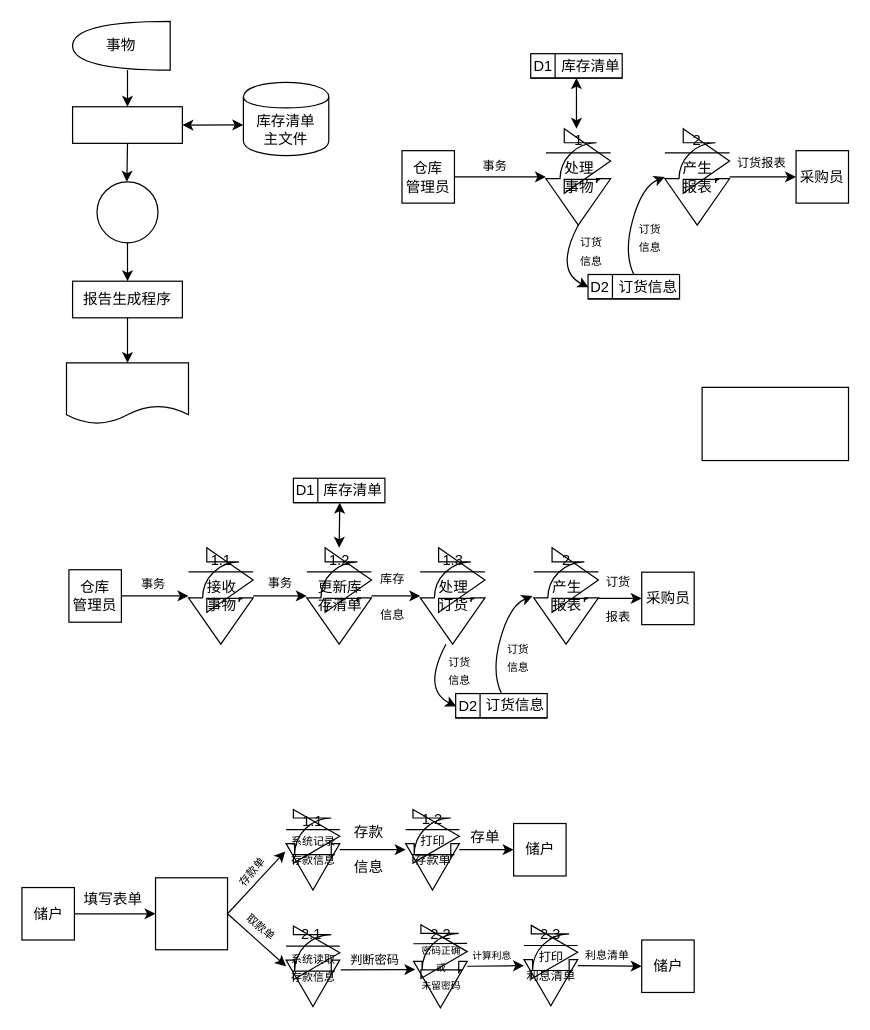
Some shapes in this 870 by 1030 pixel diagram are drawn without their labels. Here are the shapes that lost their labels. From the top down, the centre of each, then its label:
the point at 126,124: 库存清单程序
the point at 127,212: 定货 信息
the point at 126,393: 定货报告
the point at 775,423: 张懿 2023061001000428 2025.11.19
the point at 191,913: 业务员
